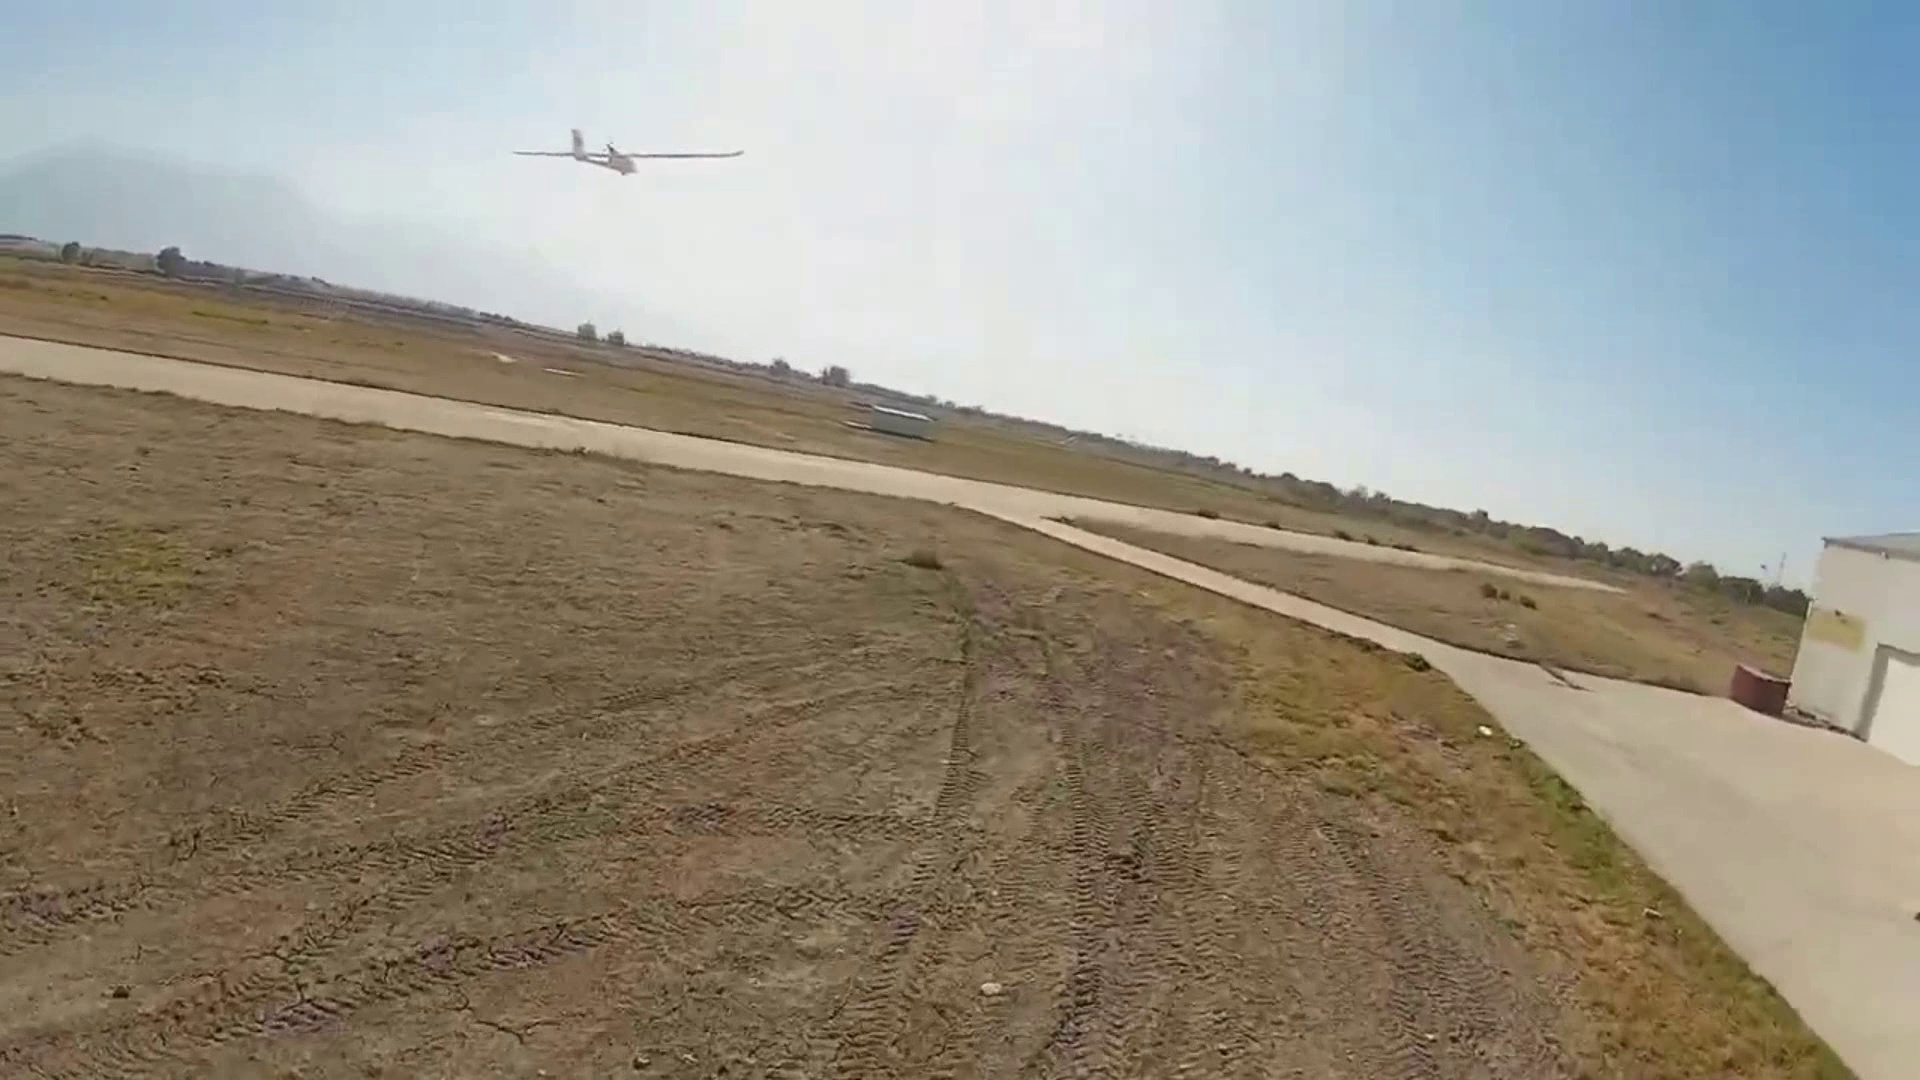airplane: (513, 123, 748, 175)
